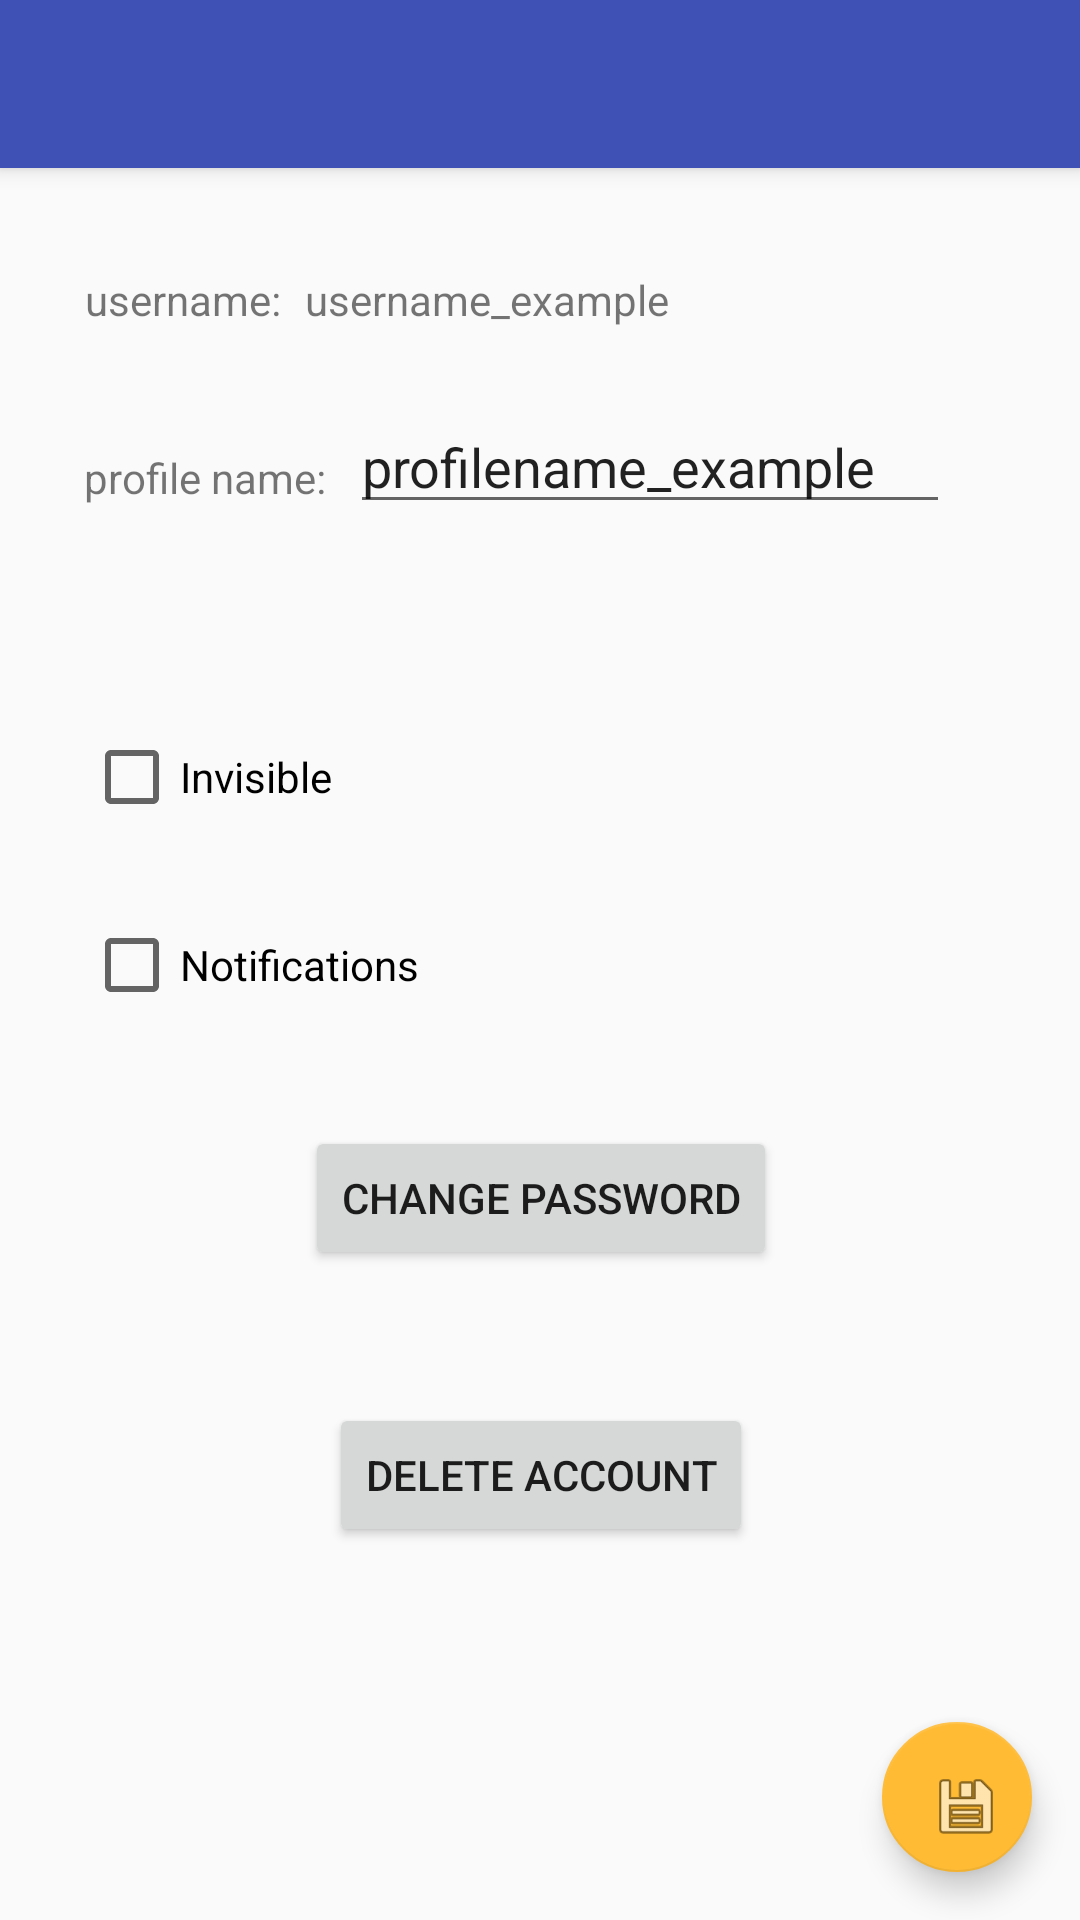

Screen size 1080px×1920px. Icon name, then its box in pixels as (x1, y1, x2, y2):
save: (882, 1722, 1032, 1872)
